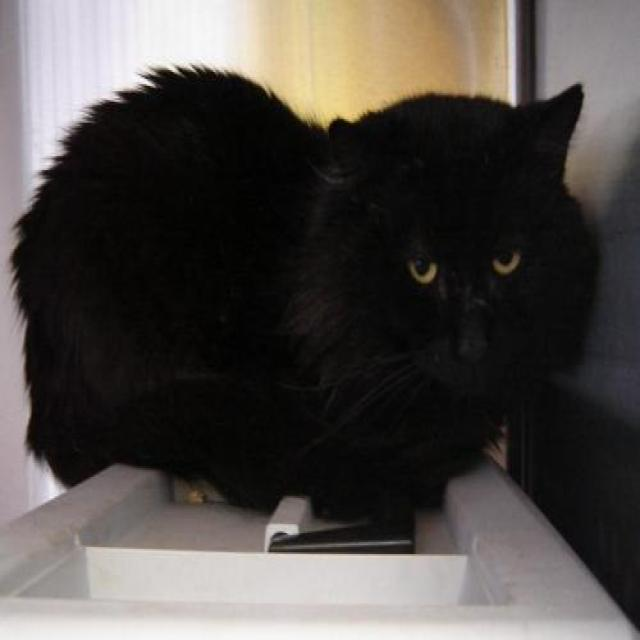Cats: (8, 60, 600, 533)
